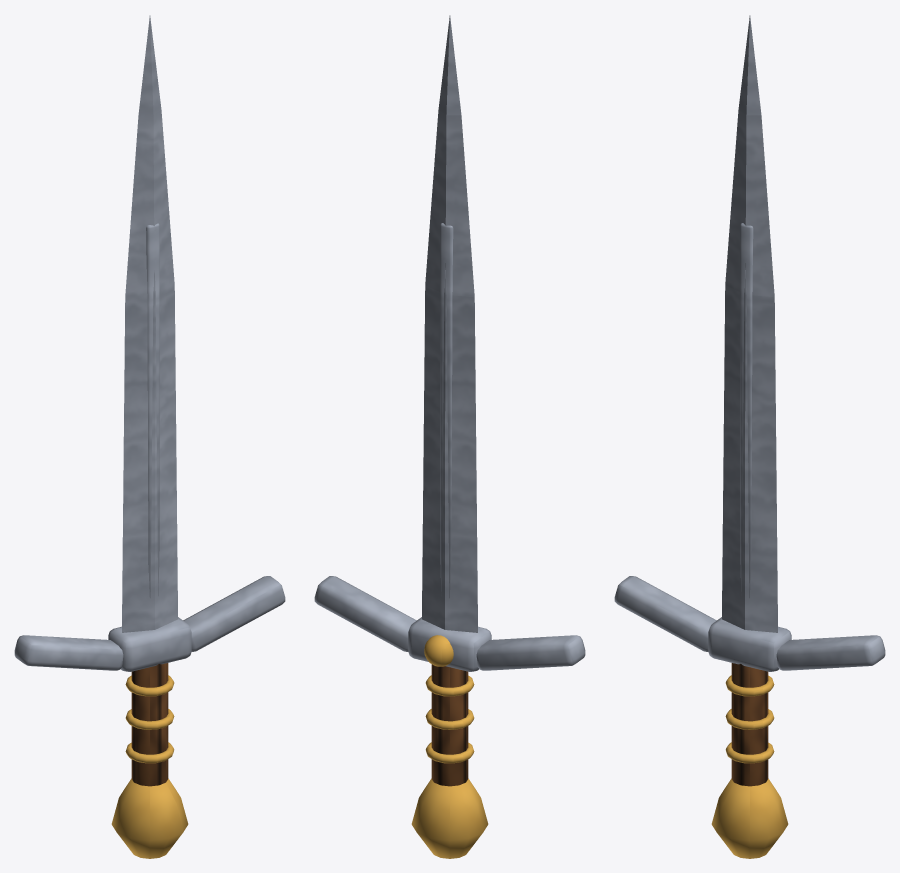
File: iron_sword.glb
3 renders of one model, left to right at view 1: azimuth 30°, elevation 25°; view 2: azimuth 150°, elevation 25°; view 3: azimuth 330°, elevation 25°, orthographic.
Visible parts, largest first — view 1: Blade, Pommel, Grip, GuardWing.001, Fuller, GuardWing, GuardCenter; view 2: Blade, Pommel, GuardWing.001, Grip, Fuller, GuardWing, GuardCenter, GuardStud; view 3: Blade, Pommel, Grip, GuardWing, Fuller, GuardWing.001, GuardCenter.
Boxes of the visible parts, box(x1,y1,x2,y2) form: Blade: box(122, 15, 177, 632); Pommel: box(111, 778, 188, 858); Grip: box(131, 663, 168, 786); GuardWing.001: box(183, 576, 285, 651); Fuller: box(146, 223, 159, 598); GuardWing: box(14, 635, 123, 670); GuardCenter: box(108, 617, 191, 671); Blade: box(422, 15, 477, 632); Pommel: box(411, 778, 488, 858); GuardWing.001: box(314, 576, 416, 651); Grip: box(431, 664, 468, 786); Fuller: box(440, 223, 453, 598); GuardWing: box(476, 635, 585, 670); GuardCenter: box(408, 617, 491, 671); GuardStud: box(424, 635, 453, 666); Blade: box(722, 15, 777, 632); Pommel: box(711, 778, 788, 858); Grip: box(731, 663, 768, 786); GuardWing: box(614, 576, 716, 651); Fuller: box(740, 223, 753, 598); GuardWing.001: box(776, 635, 885, 670); GuardCenter: box(708, 617, 791, 671).
Size of the model in its own units: 0.4082 by 1.25 by 0.104.
Materials: 4 (4 with a texture image).
